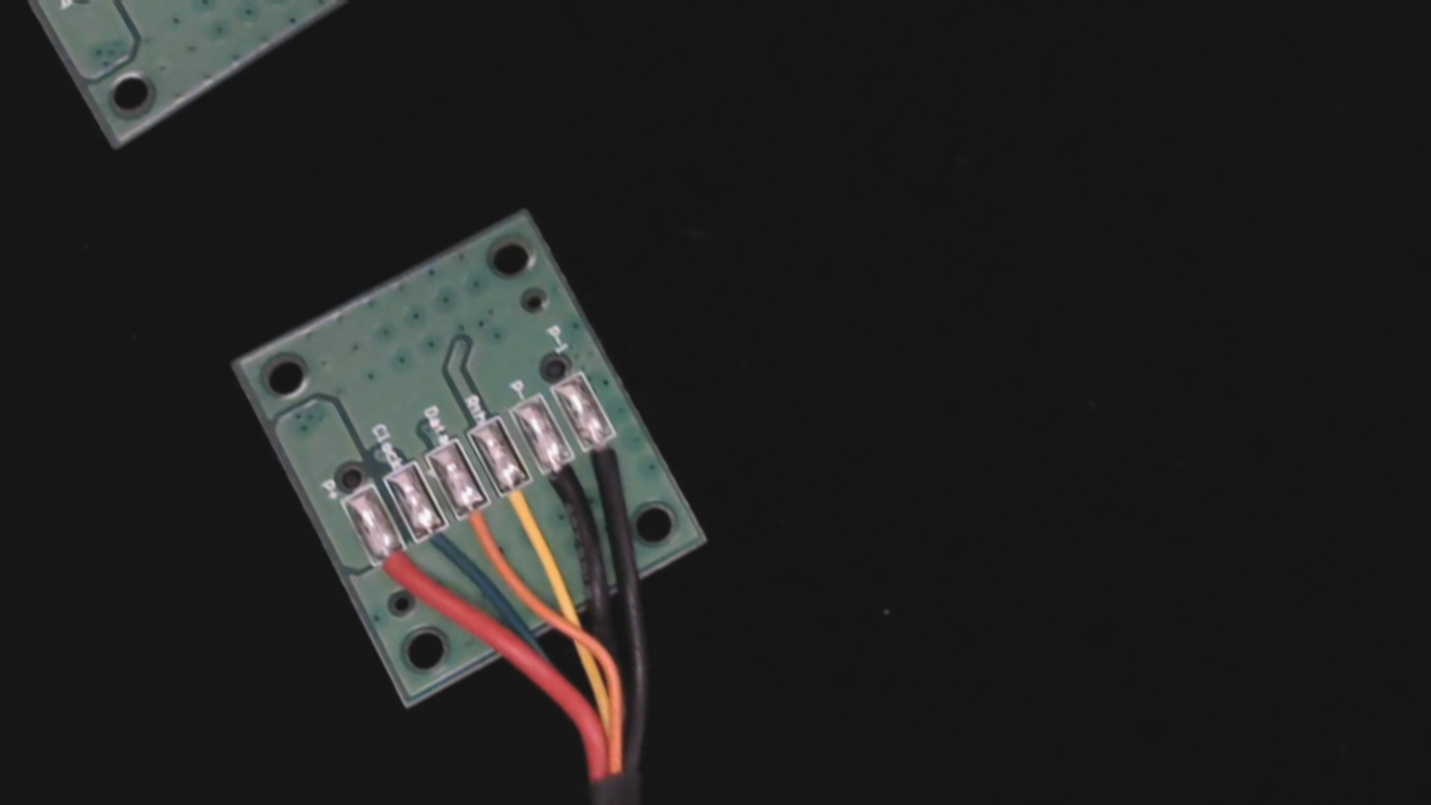Black: (523, 434, 605, 525)
Black1: (565, 412, 650, 506)
Green: (401, 502, 482, 591)
Orange: (440, 481, 521, 572)
Red: (359, 526, 440, 615)
Yellow: (485, 458, 558, 541)
